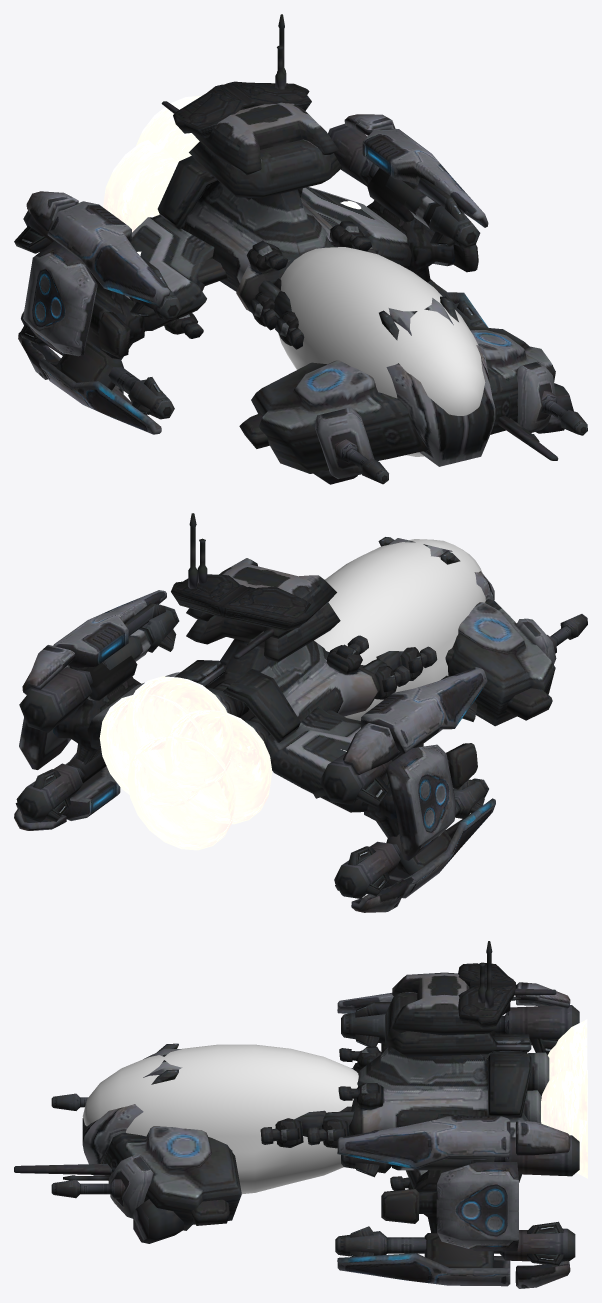
File: Battlecruiser_Umojan.glb
3 renders of one model, top to bottom at view 1: azimuth 30°, elevation 25°; view 2: azimuth 150°, elevation 25°; view 3: azimuth 270°, elevation 25°, orthographic. The views are drawn at different scales.
Parts seen in each view (by area): view 1: Mesh.002, Disp1, Mesh.001, Mesh; view 2: Mesh.002, Mesh.001, Disp1, Mesh; view 3: Mesh.002, Disp1, Mesh, Mesh.001.
Part boxes in pixels (<box>): Mesh.002: <box>14,14,587,484</box>; Disp1: <box>278,247,485,456</box>; Mesh.001: <box>103,95,361,255</box>; Mesh: <box>164,221,573,484</box>; Mesh.002: <box>14,513,587,912</box>; Mesh.001: <box>99,676,346,850</box>; Disp1: <box>314,539,485,720</box>; Mesh: <box>326,635,437,699</box>; Mesh.002: <box>14,941,579,1288</box>; Disp1: <box>82,1044,358,1194</box>; Mesh: <box>133,1046,412,1243</box>; Mesh.001: <box>541,1019,587,1178</box>.
Bounding box in the file's own units: 3.71 × 2.86 × 5.14.
Materials: 6 (6 with a texture image).
